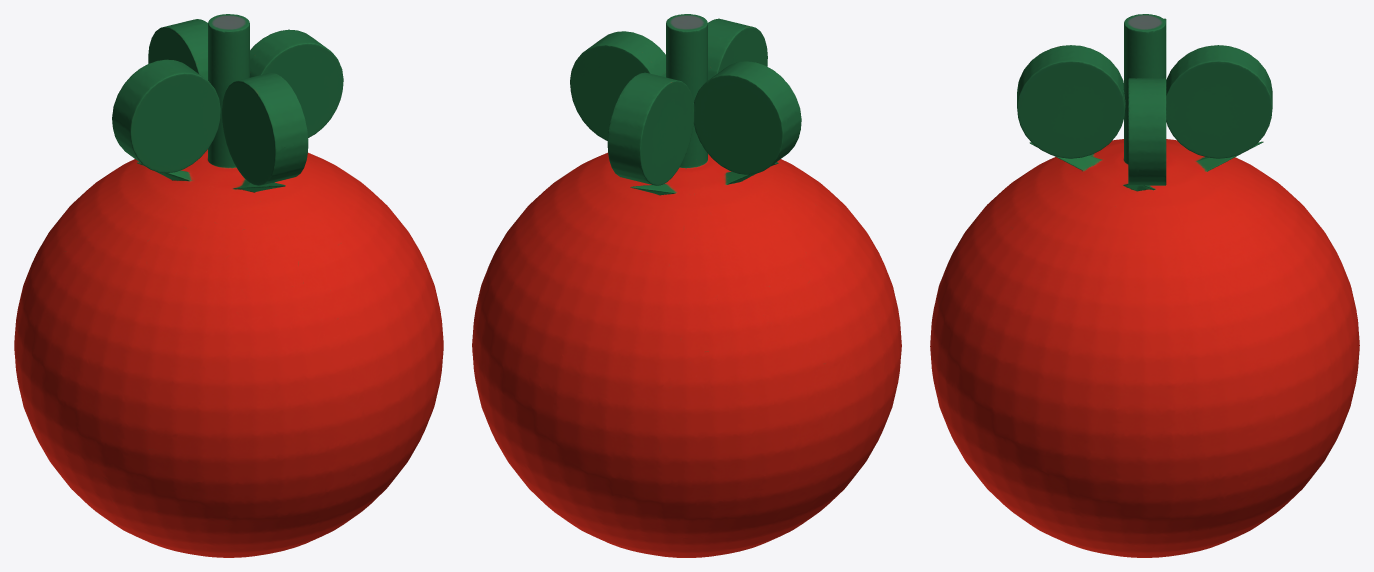
3 views of the same model, side by side, from view 1: azimuth 30°, elevation 25°; view 2: azimuth 150°, elevation 25°; view 3: azimuth 270°, elevation 25° (orthographic).
Visible parts, largest first — view 1: world; view 2: world; view 3: world.
Boxes of the visible parts, left/top/right/bottom form: world: left=14, top=14, right=443, bottom=557; world: left=472, top=14, right=901, bottom=557; world: left=930, top=14, right=1359, bottom=557.
Bounding box in the file's own units: 0.7558 × 1 × 0.7559.
1 material, 1 textured.
